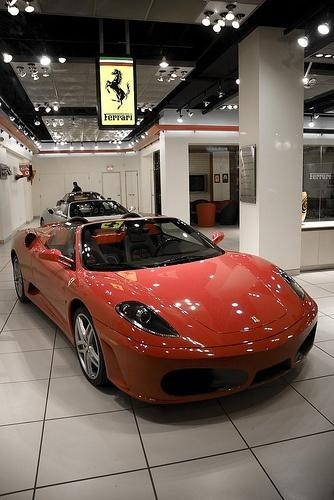car: (9, 213, 321, 419), (39, 198, 144, 228)
